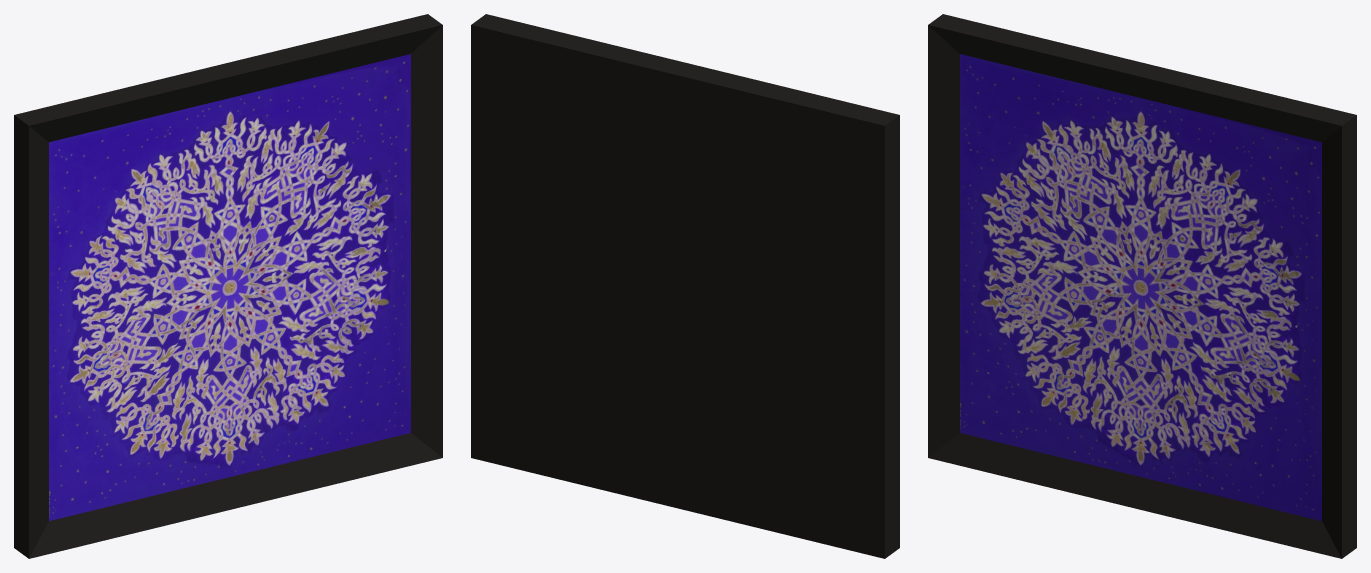
Rendered from slipper-orchids-orchids30-nebula-purple-a2-stained-black-v2.glb.
3 views of the same model, side by side, from view 1: azimuth 30°, elevation 25°; view 2: azimuth 150°, elevation 25°; view 3: azimuth 330°, elevation 25° (orthographic).
Parts seen in each view (by area): view 1: FramedPrint; view 2: FramedPrint; view 3: FramedPrint.
Part boxes in pixels (<box>): FramedPrint: <box>14,14,442,558</box>; FramedPrint: <box>471,14,899,558</box>; FramedPrint: <box>928,14,1356,558</box>.
Bounding box in the file's own units: 0.48 × 0.48 × 0.03.
Materials: 2 (1 with a texture image).
